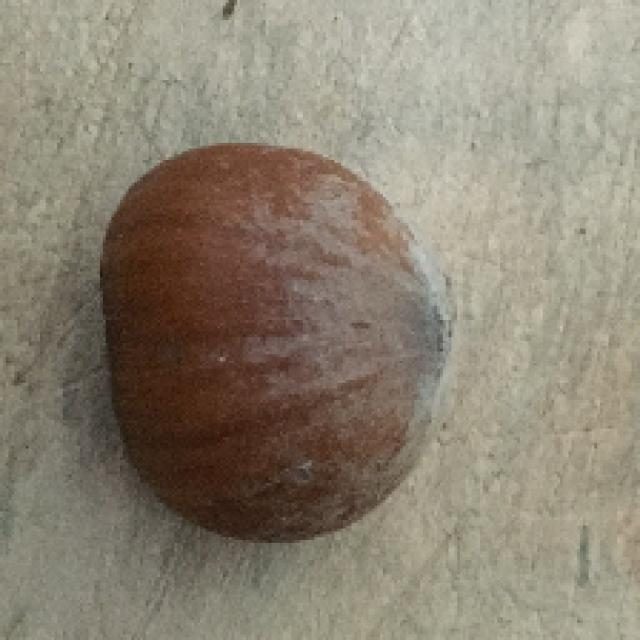qualityHazelnut: (96, 139, 457, 549)
